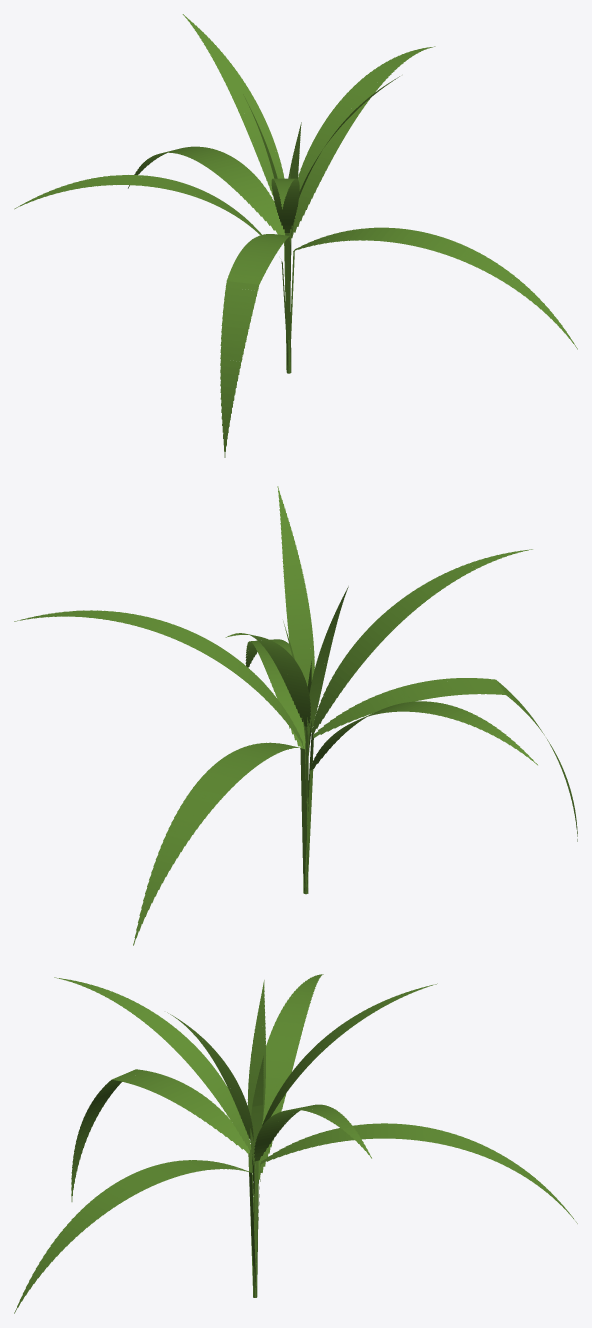
File: maize_002_day_075.dae
3 views of the same model, one above another, from view 1: azimuth 30°, elevation 25°; view 2: azimuth 150°, elevation 25°; view 3: azimuth 270°, elevation 25° (orthographic). The views are drawn at different scales.
Parts seen in each view (by area): view 1: node; view 2: node; view 3: node.
Part boxes in pixels (bbox=[...]): node: bbox=[14, 14, 577, 457]; node: bbox=[14, 486, 577, 945]; node: bbox=[14, 974, 577, 1313].
Bounding box in the file's own units: 1.16 × 0.7809 × 1.24.
1 material, 1 textured.
